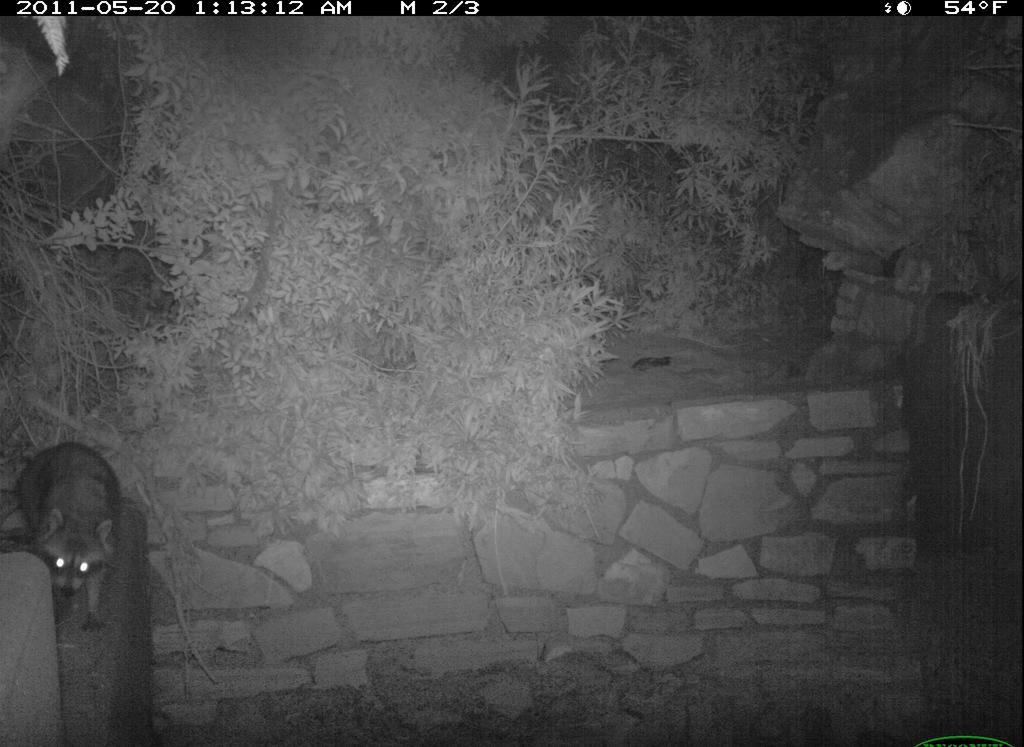raccoon: (11, 432, 143, 646)
